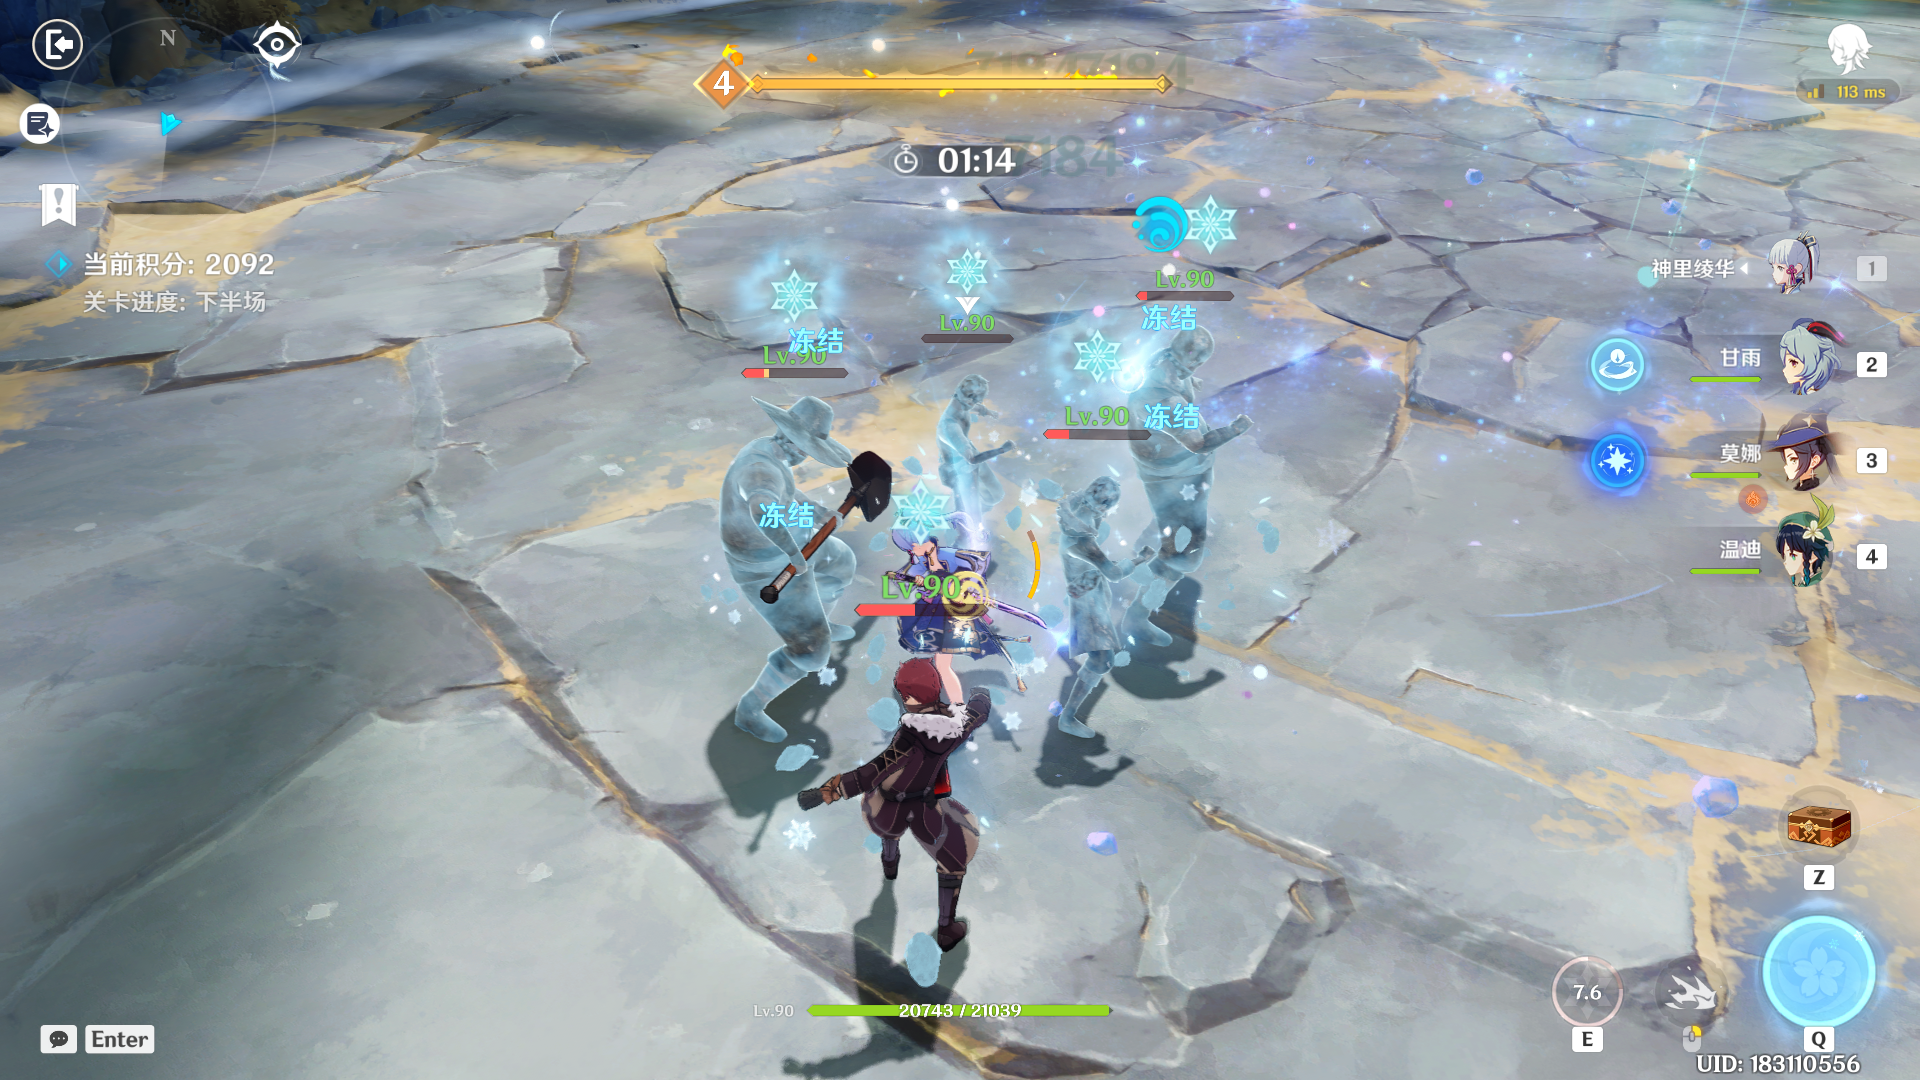character: (873, 506, 1029, 695)
